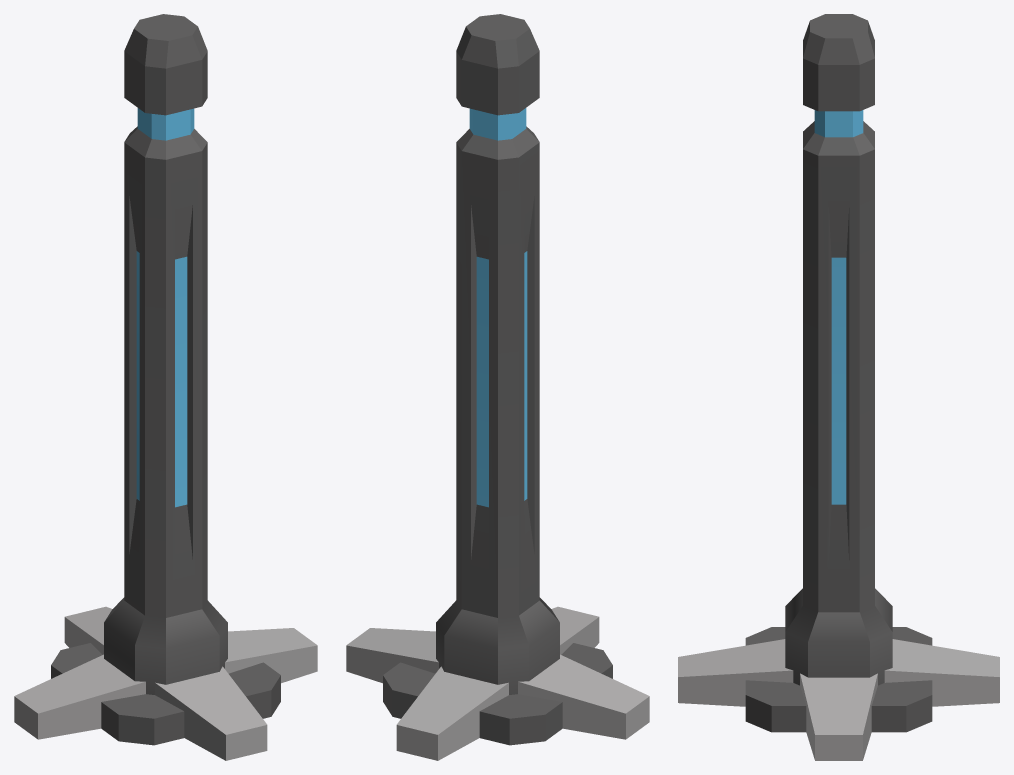
File: Props-1.fbx
3 views of the same model, side by side, from view 1: azimuth 30°, elevation 25°; view 2: azimuth 150°, elevation 25°; view 3: azimuth 270°, elevation 25° (orthographic).
Parts seen in each view (by area): view 1: SM_Prop_Barrier_line_01; view 2: SM_Prop_Barrier_line_01; view 3: SM_Prop_Barrier_line_01.
Boxes of the visible parts, x1,y1,x2,y2 form: SM_Prop_Barrier_line_01: (14,14,317,760); SM_Prop_Barrier_line_01: (346,14,649,760); SM_Prop_Barrier_line_01: (678,14,999,760).
Bounding box in the file's own units: 48.06 × 110 × 48.06.
Materials: 1 (1 with a texture image).
